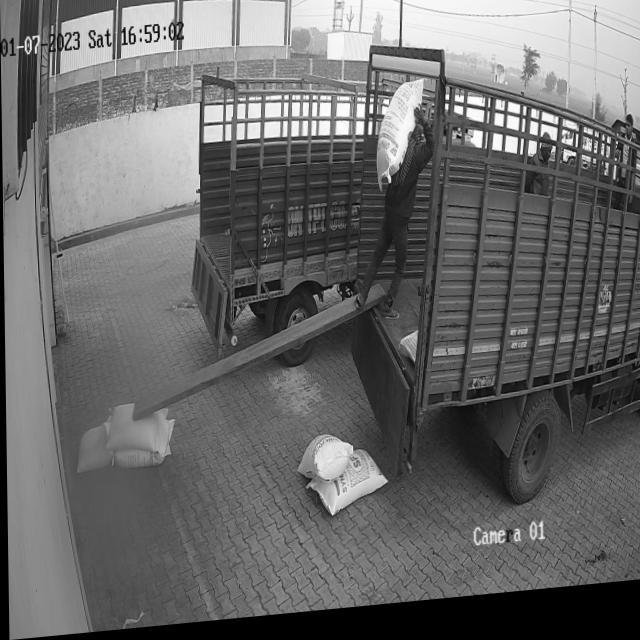sack: (304, 453, 387, 525), (375, 88, 424, 199), (105, 403, 167, 458), (110, 422, 174, 473), (295, 437, 352, 492), (74, 424, 112, 476)
